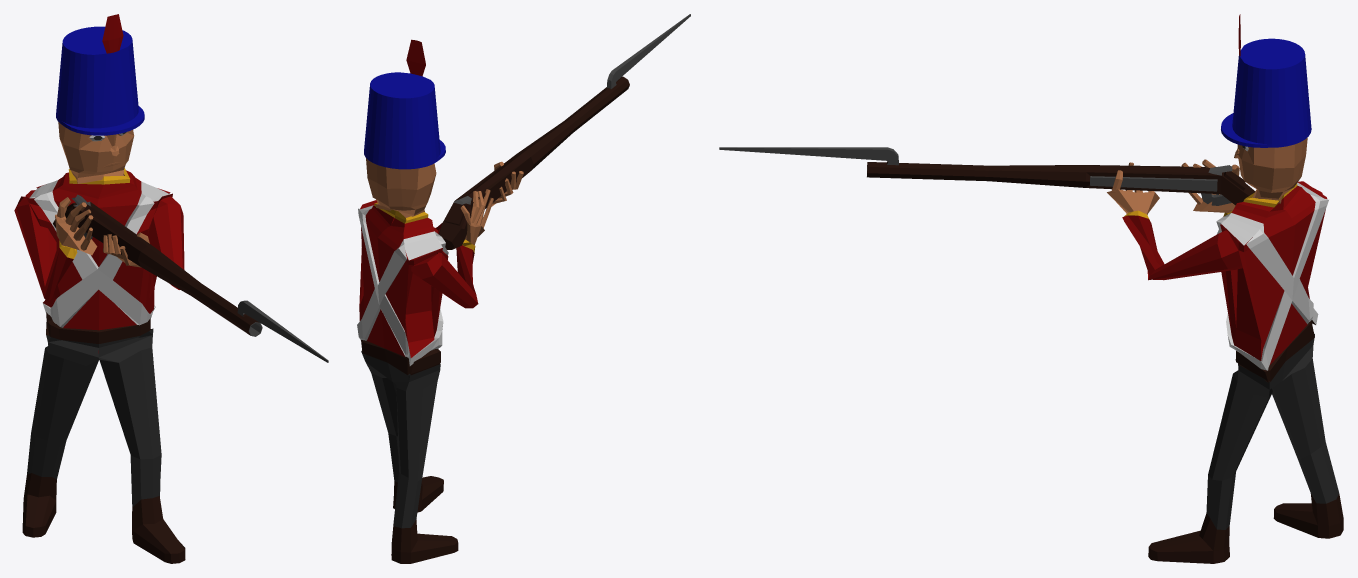
The model's file is frame1.obj.
3 views of the same model, side by side, from view 1: azimuth 30°, elevation 25°; view 2: azimuth 150°, elevation 25°; view 3: azimuth 270°, elevation 25° (orthographic). The views are drawn at different scales.
Visible parts, largest first — view 1: {Man}_Circle, {Mesket}_Cube.001; view 2: {Man}_Circle, {Mesket}_Cube.001; view 3: {Man}_Circle, {Mesket}_Cube.001.
Part boxes in pixels (x1,y1,x2,y2): {Man}_Circle: (14, 14, 185, 563); {Mesket}_Cube.001: (53, 194, 328, 362); {Man}_Circle: (357, 39, 523, 563); {Mesket}_Cube.001: (438, 14, 690, 249); {Man}_Circle: (1107, 14, 1343, 563); {Mesket}_Cube.001: (719, 147, 1255, 205).
Size of the model in its own units: 4.21 by 16.27 by 17.35.
